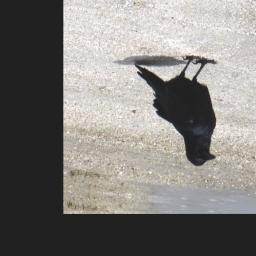Crow: (124, 47, 227, 170)
